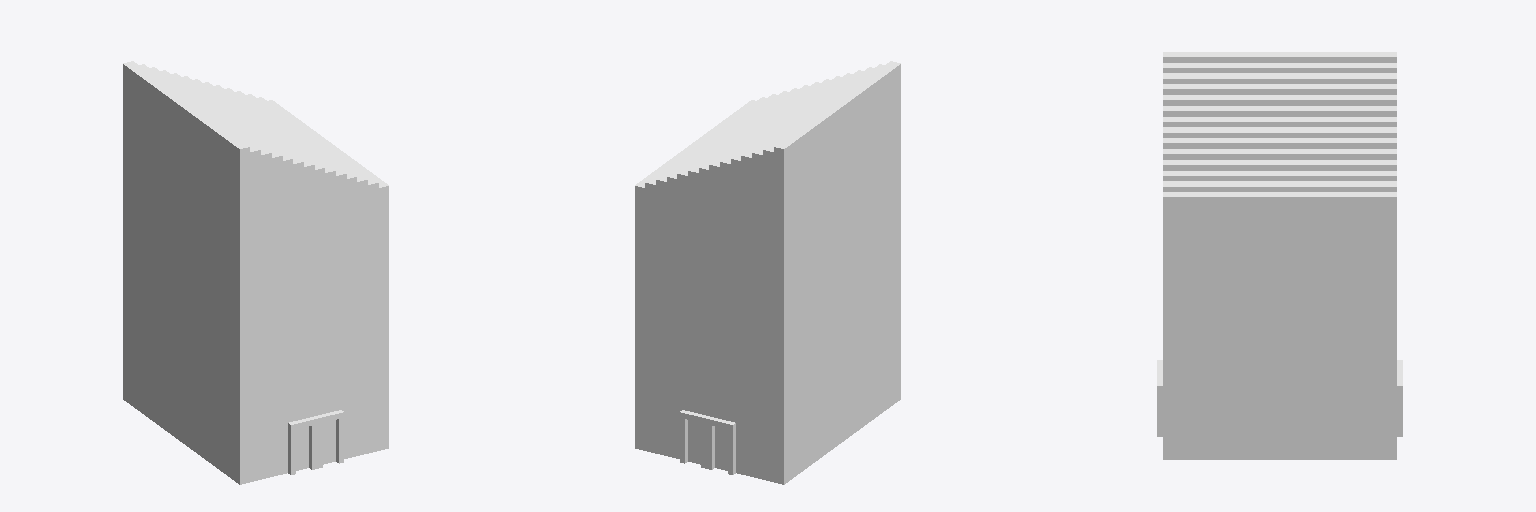
Rendered from Cutter_tower.obj.
3 renders of one model, left to right at view 1: azimuth 30°, elevation 25°; view 2: azimuth 150°, elevation 25°; view 3: azimuth 270°, elevation 25°, orthographic.
Visible parts, largest first — view 1: object 1; view 2: object 1; view 3: object 1.
Part boxes in pixels (left/top/right/bottom): object 1: left=123, top=61, right=388, bottom=484; object 1: left=635, top=61, right=900, bottom=484; object 1: left=1157, top=52, right=1402, bottom=459.
Size of the model in its own units: 2.8 by 6 by 4.